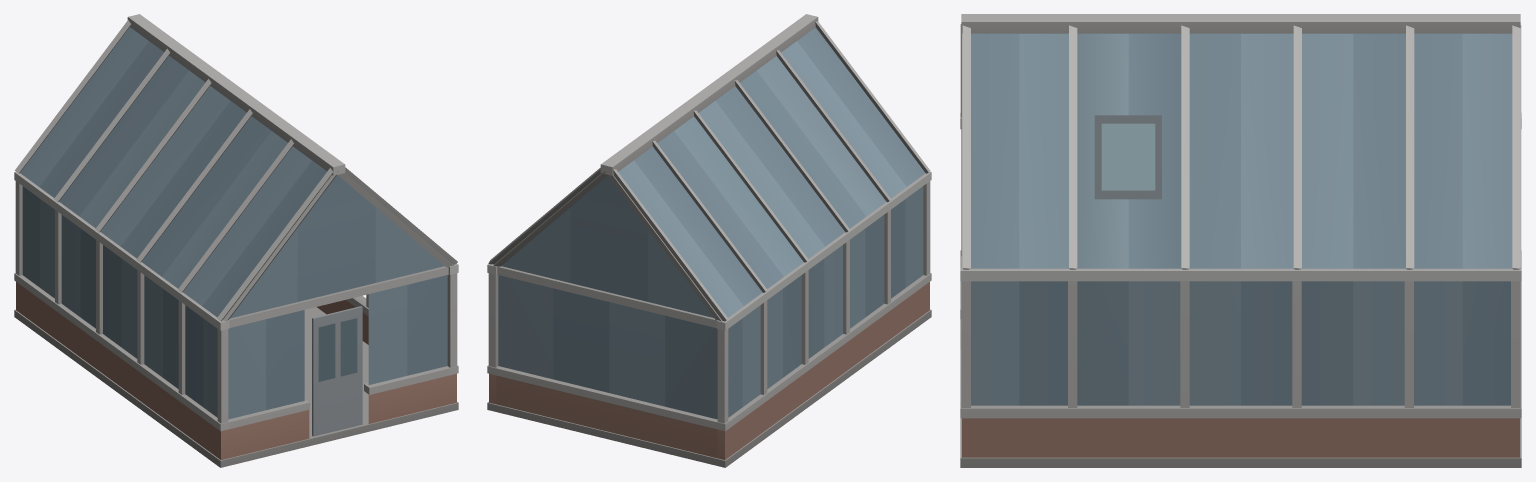
File: glass.lod2.glb
3 views of the same model, side by side, from view 1: azimuth 30°, elevation 25°; view 2: azimuth 150°, elevation 25°; view 3: azimuth 270°, elevation 25° (orthographic). The views are drawn at different scales.
Bounding box in the file's own units: 6.42 × 7 × 9.6.
